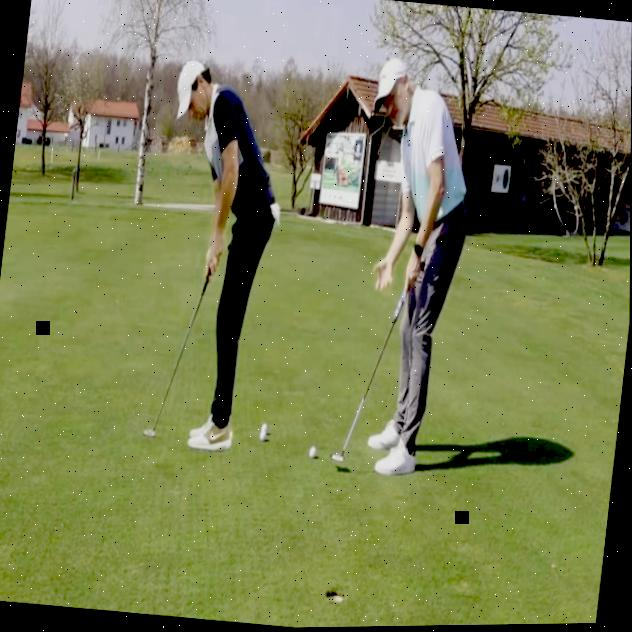ClubHead: (137, 406, 169, 444), (324, 436, 352, 471)
GolfBall: (305, 438, 321, 464), (256, 417, 273, 434), (255, 427, 270, 443)
